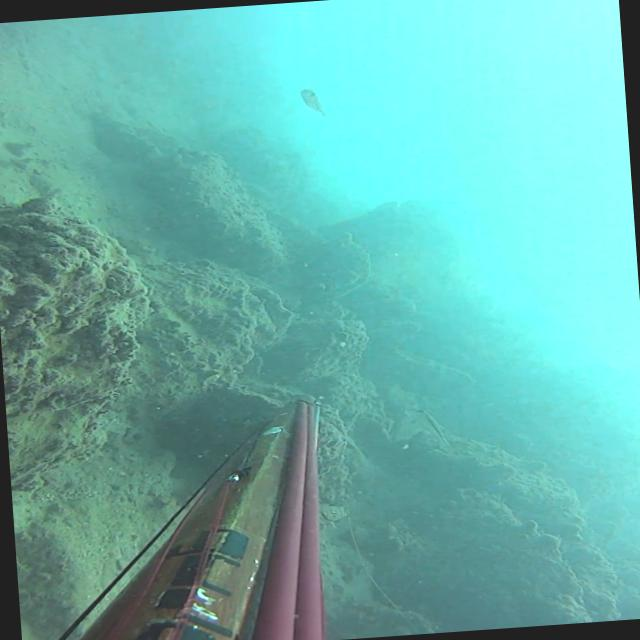Balon Baligi: (411, 405, 454, 452), (300, 87, 330, 119)
